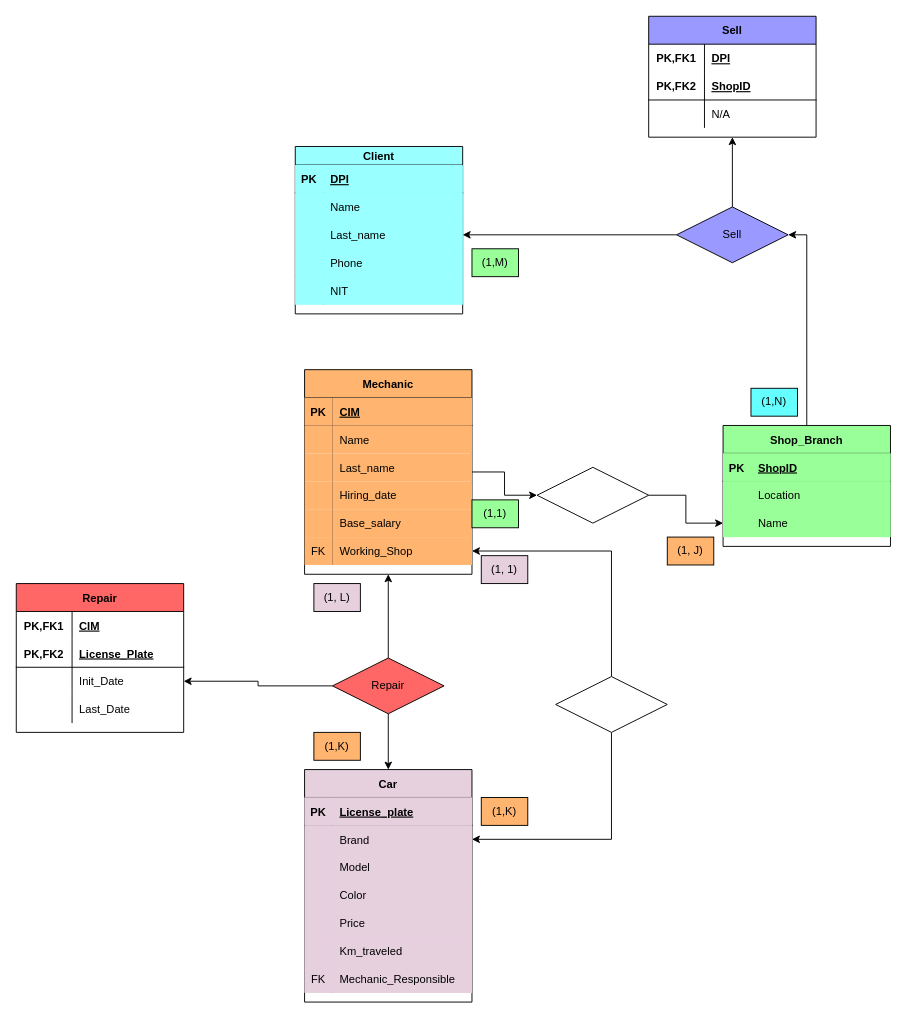
This 907x1018 diagram has some shape labels left out. The shapes that lost their labels are listed below. From the top down, each one's centre as x and y in pixels, then its label:
the point at 592,494: Has
the point at 611,704: Responsible
